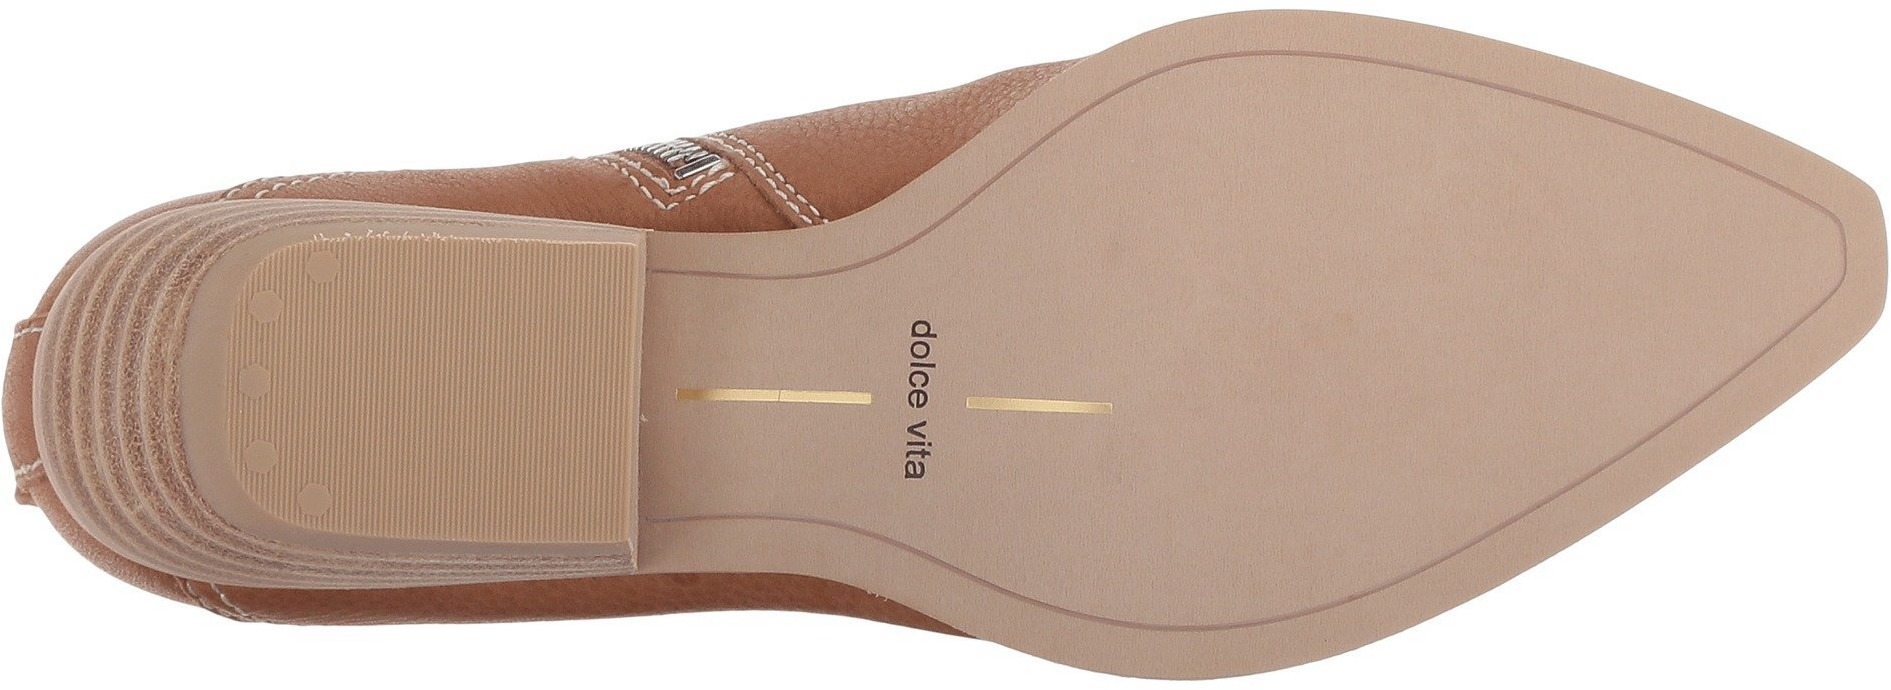other: (1171, 115, 1569, 483), (273, 271, 622, 513), (1579, 176, 1755, 372), (973, 420, 1152, 596), (980, 209, 1152, 387)
text: (894, 302, 948, 486)
